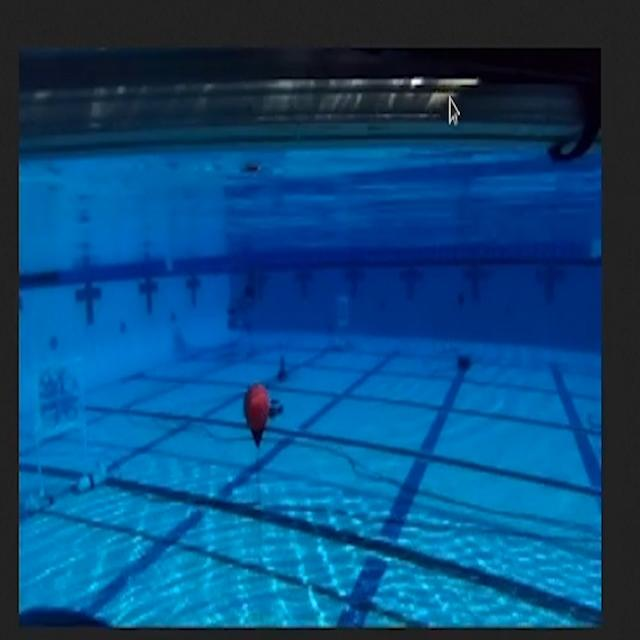Buoy: (227, 368, 287, 468)
